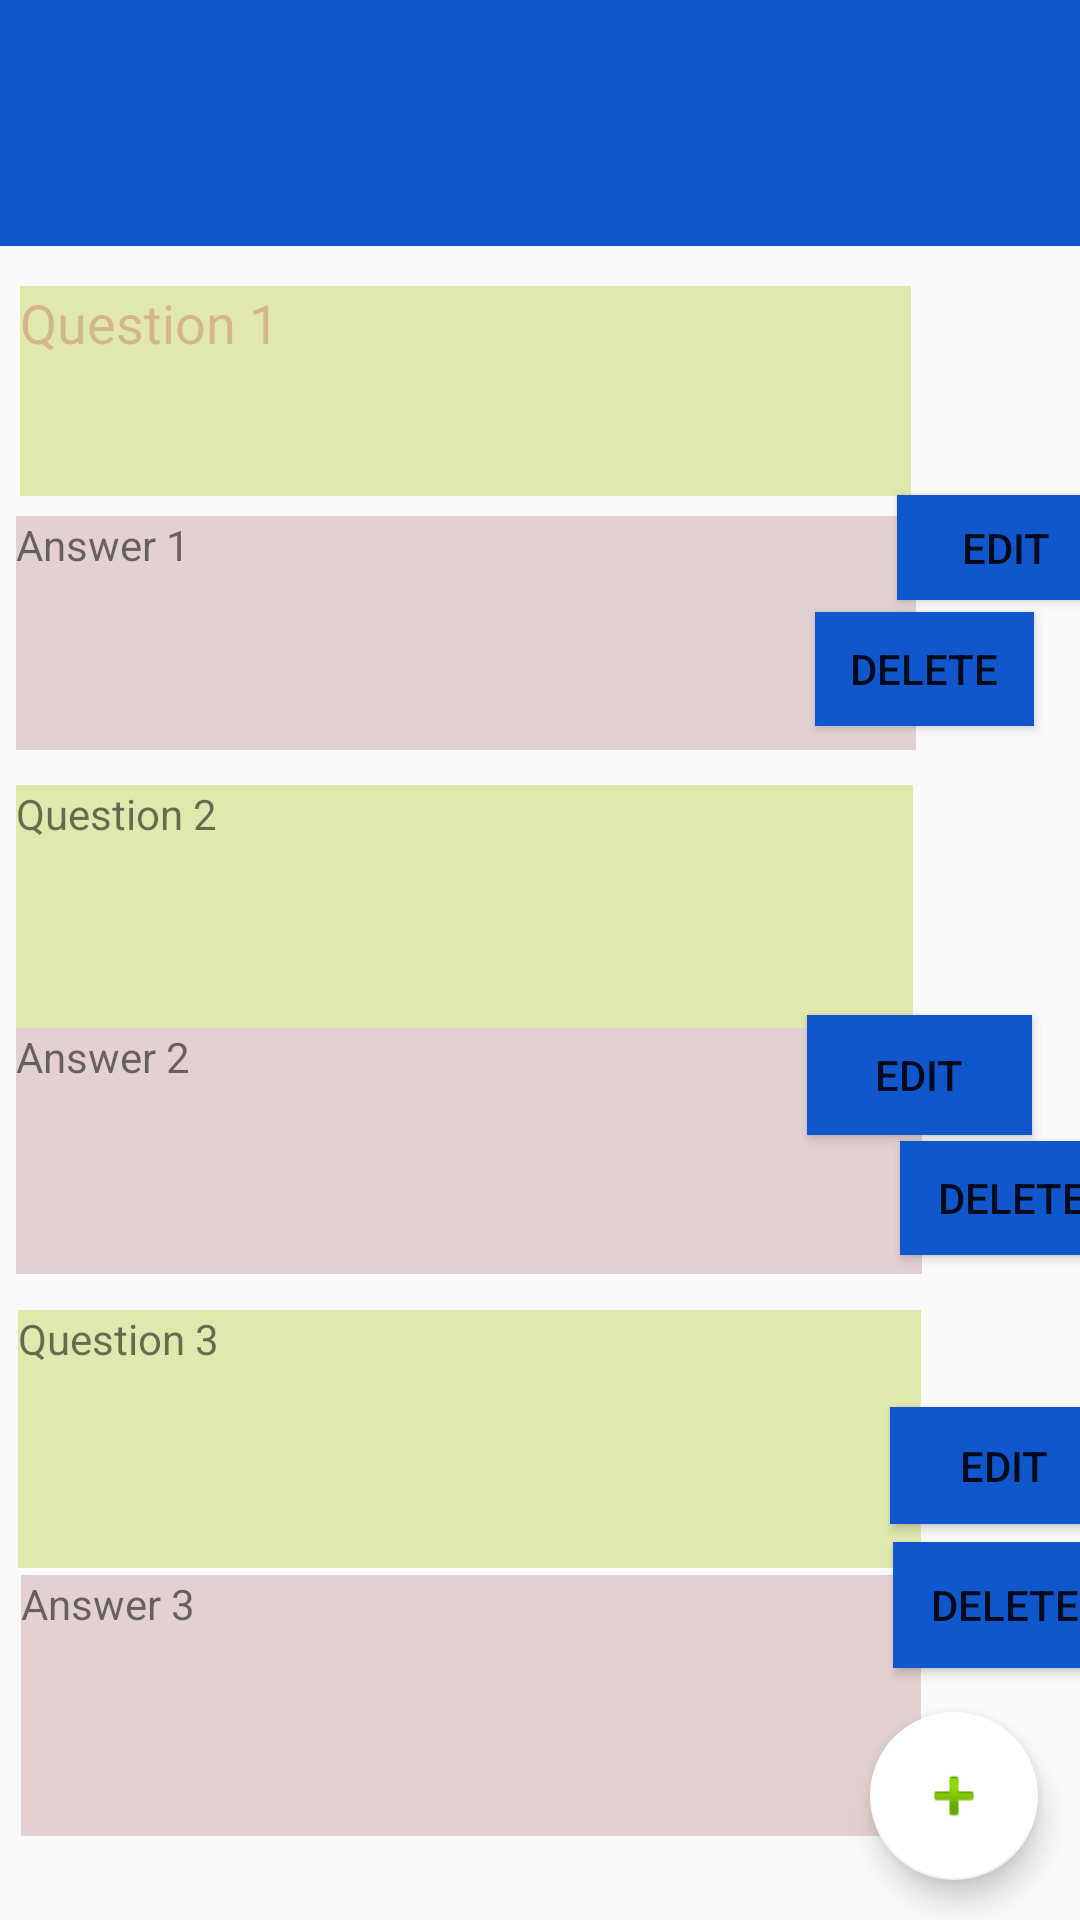

Screen size 1080 x 1920. Icon name, then its center in pixels as (x=x, y=y):
add: (x=954, y=1796)
